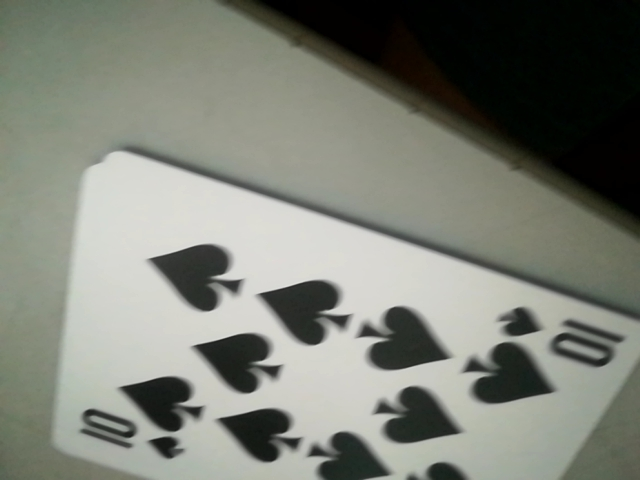ht 10: (493, 299, 638, 369), (69, 407, 188, 464)
